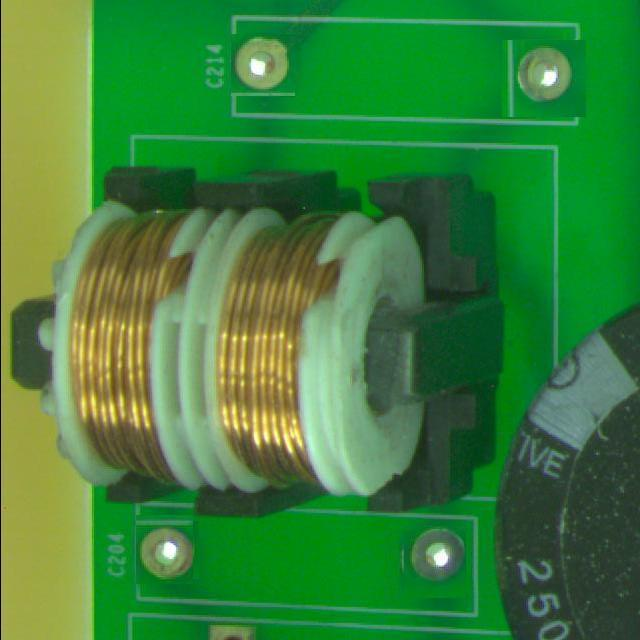lack_of_part: (501, 39, 586, 117), (401, 529, 469, 596), (232, 33, 295, 97), (133, 518, 196, 582)
